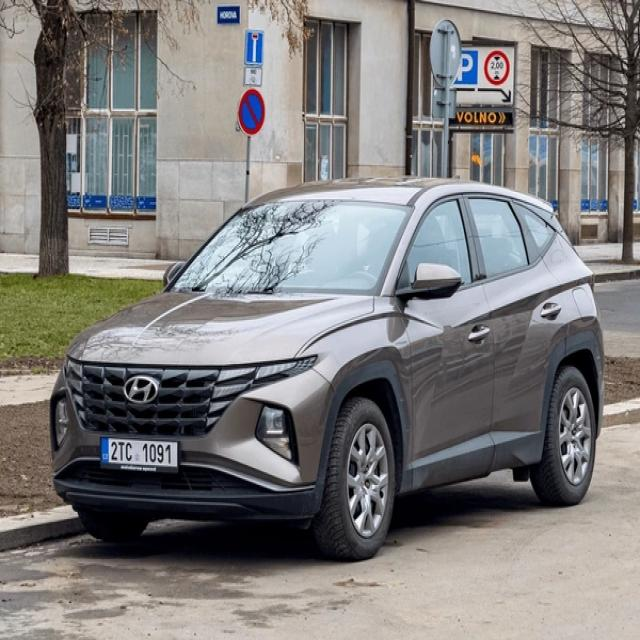hyundai: (121, 374, 160, 407)
